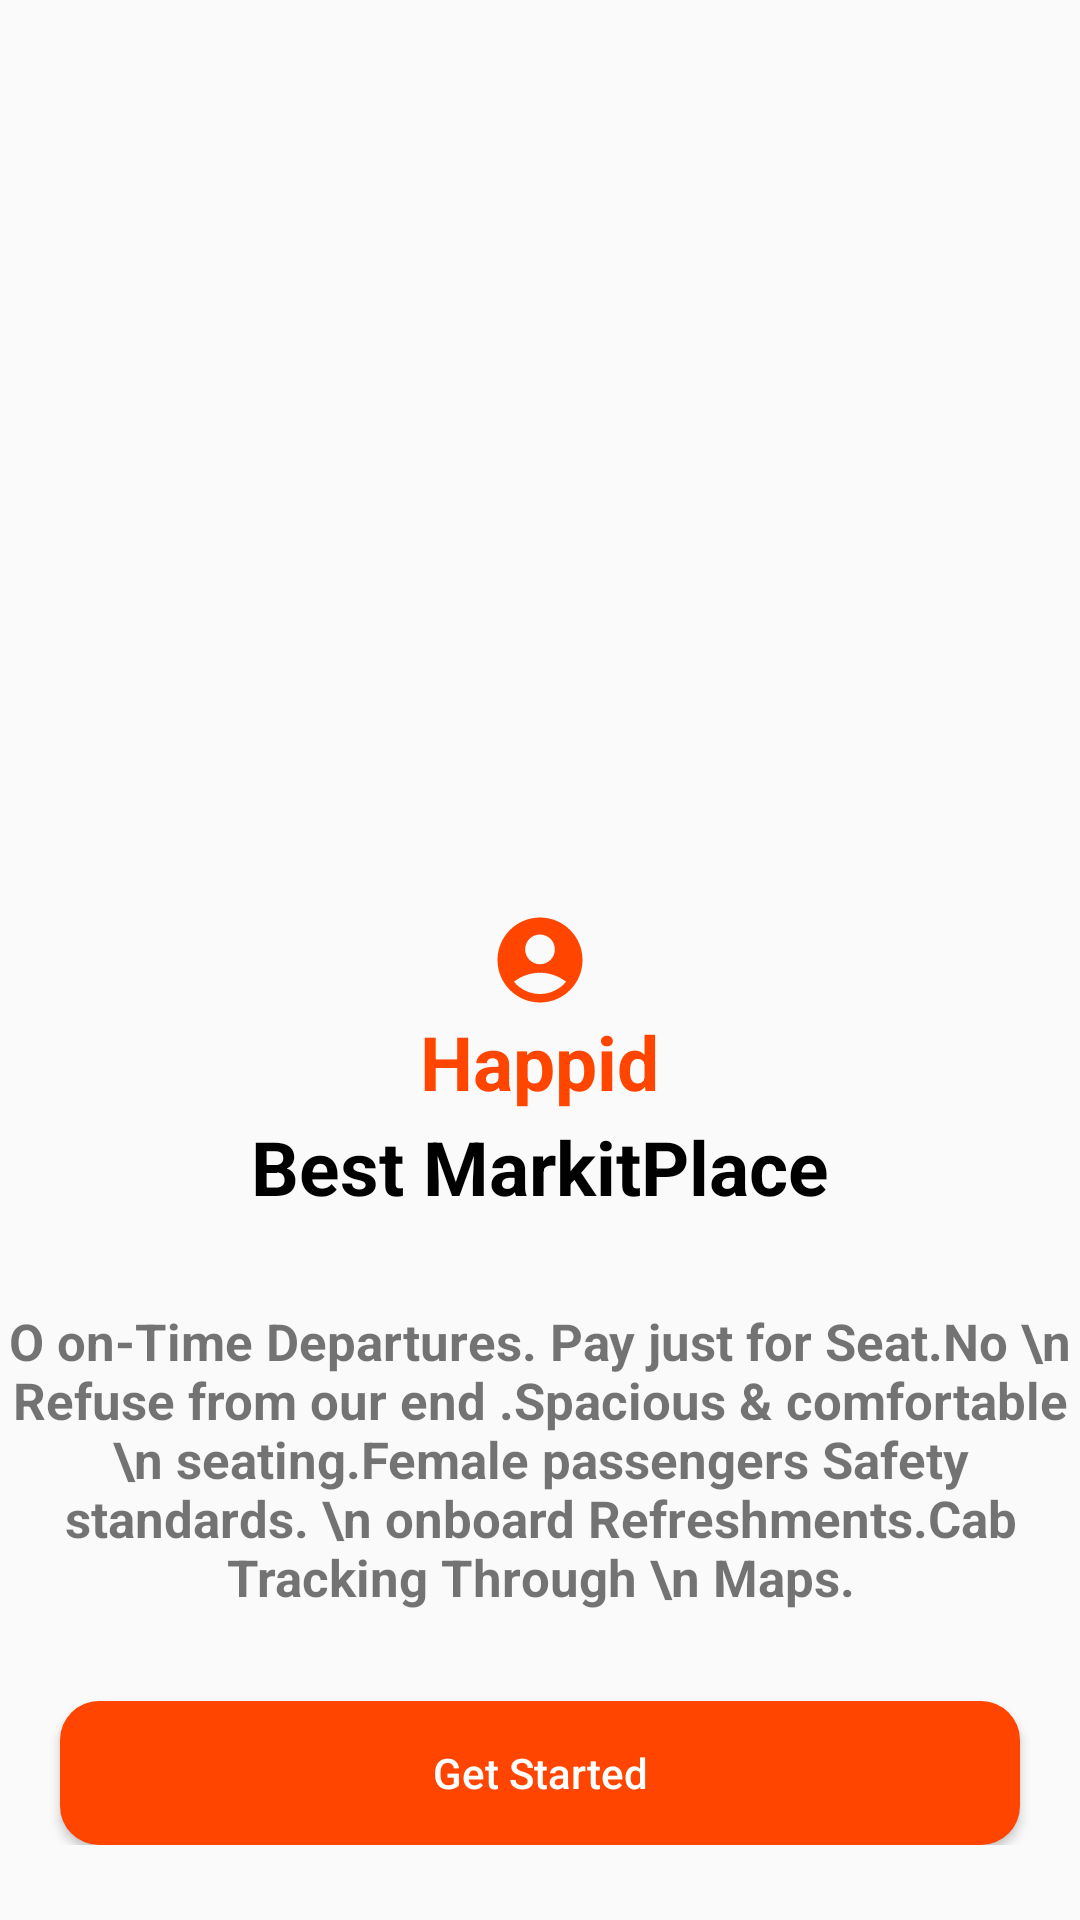

Named icons in this screenshot (1080w x 1920h) and their centers, (x,y):
account circle: (540,960)
